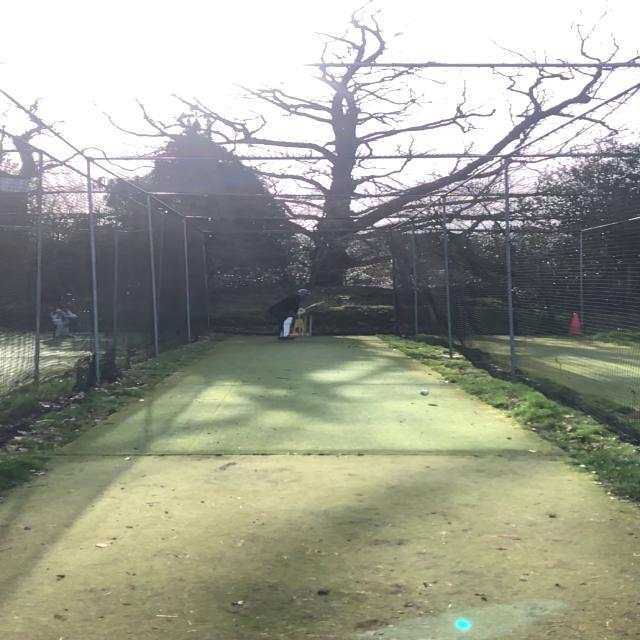ball: (418, 389, 429, 397)
